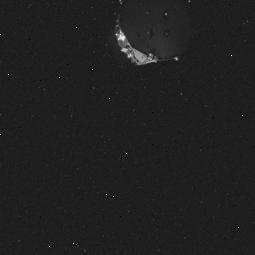lisa_pathfinder: (104, 0, 198, 86)
